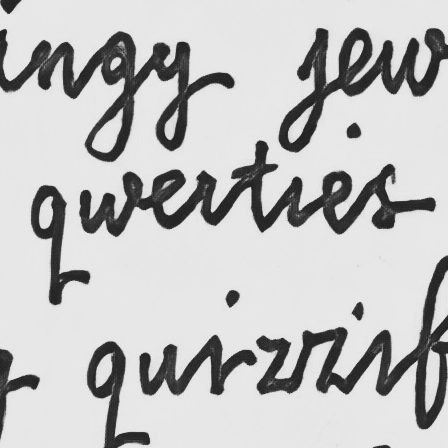e: (319, 167, 356, 236), (149, 167, 187, 232)
i: (283, 172, 309, 229)
q: (28, 183, 73, 306)
r: (189, 167, 223, 229)
s: (368, 162, 402, 233)
t: (228, 138, 281, 234)
w: (78, 170, 145, 239)
